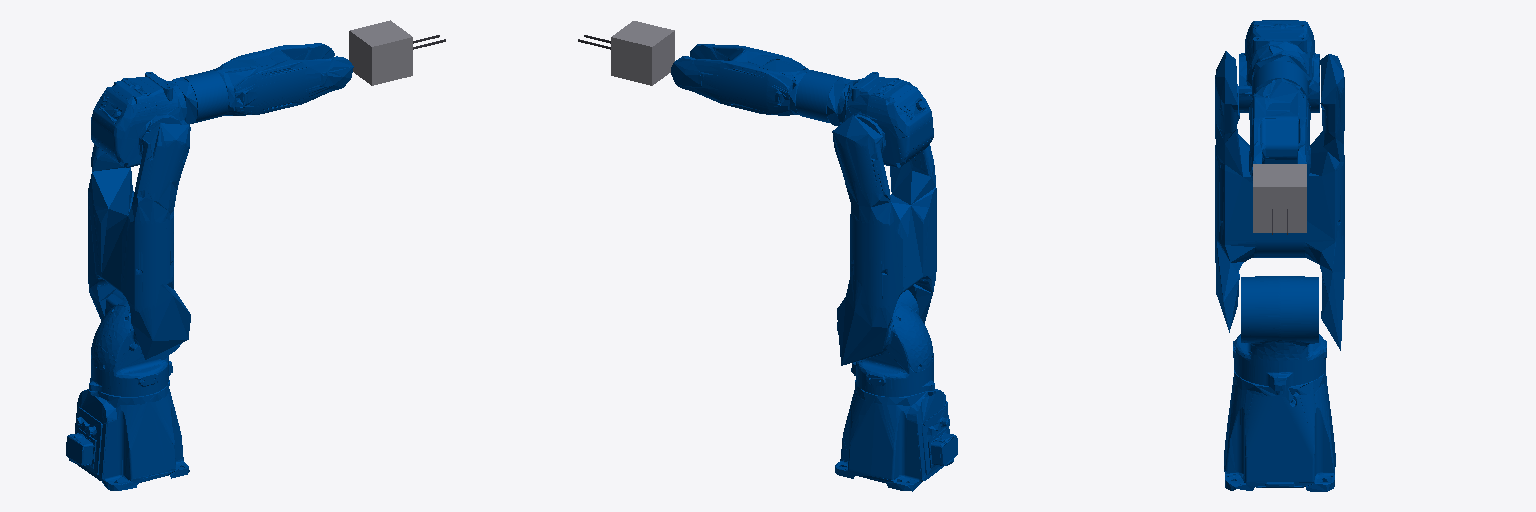
robot.urdf — motoman_gp7:
<?xml version="1.0" ?>
<robot name="motoman_gp7">
  <link name="base_link">
    <inertial>
      <origin rpy="0 0 0" xyz="0 0 0"/>
      <mass value="3"/>
      <inertia ixx="0.02" ixy="0" ixz="0" iyy="0.02" iyz="0" izz="0.02"/>
    </inertial>
    <visual>
      <geometry>
        <mesh filename="meshes/visual/base_link.stl"/>
      </geometry>
      <material name="yaskawa_blue">
        <color rgba="0.0 0.32 0.6 1.0"/>
      </material>
    </visual>
    <collision>
      <geometry>
        <mesh filename="meshes/collision/base_link.stl"/>
      </geometry>
    </collision>
  </link>
  <link name="link_1_s">
    <inertial>
      <origin rpy="0 0 0" xyz="0 0 0"/>
      <mass value="3"/>
      <inertia ixx="0.02" ixy="0" ixz="0" iyy="0.02" iyz="0" izz="0.02"/>
    </inertial>
    <visual>
      <geometry>
        <mesh filename="meshes/visual/link_1_s.stl"/>
      </geometry>
      <material name="yaskawa_blue">
        <color rgba="0.0 0.32 0.6 1.0"/>
      </material>
    </visual>
    <collision>
      <geometry>
        <mesh filename="meshes/collision/link_1_s.stl"/>
      </geometry>
    </collision>
  </link>
  <link name="link_2_l">
    <inertial>
      <origin rpy="0 0 0" xyz="0 0 0"/>
      <mass value="3"/>
      <inertia ixx="0.02" ixy="0" ixz="0" iyy="0.02" iyz="0" izz="0.02"/>
    </inertial>
    <visual>
      <geometry>
        <mesh filename="meshes/visual/link_2_l.stl"/>
      </geometry>
      <material name="yaskawa_blue">
        <color rgba="0.0 0.32 0.6 1.0"/>
      </material>
    </visual>
    <collision>
      <geometry>
        <mesh filename="meshes/collision/link_2_l.stl"/>
      </geometry>
    </collision>
  </link>
  <link name="link_3_u">
    <inertial>
      <origin rpy="0 0 0" xyz="0 0 0"/>
      <mass value="3"/>
      <inertia ixx="0.02" ixy="0" ixz="0" iyy="0.02" iyz="0" izz="0.02"/>
    </inertial>
    <visual>
      <geometry>
        <mesh filename="meshes/visual/link_3_u.stl"/>
      </geometry>
      <material name="yaskawa_blue">
        <color rgba="0.0 0.32 0.6 1.0"/>
      </material>
    </visual>
    <collision>
      <geometry>
        <mesh filename="meshes/collision/link_3_u.stl"/>
      </geometry>
    </collision>
  </link>
  <link name="link_4_r">
    <inertial>
      <origin rpy="0 0 0" xyz="0 0 0"/>
      <mass value="3"/>
      <inertia ixx="0.02" ixy="0" ixz="0" iyy="0.02" iyz="0" izz="0.02"/>
    </inertial>
    <visual>
      <geometry>
        <mesh filename="meshes/visual/link_4_r.stl"/>
      </geometry>
      <material name="yaskawa_blue">
        <color rgba="0.0 0.32 0.6 1.0"/>
      </material>
    </visual>
    <collision>
      <geometry>
        <mesh filename="meshes/collision/link_4_r.stl"/>
      </geometry>
    </collision>
  </link>
  <link name="link_5_b">
    <inertial>
      <origin rpy="0 0 0" xyz="0 0 0"/>
      <mass value="3"/>
      <inertia ixx="0.02" ixy="0" ixz="0" iyy="0.02" iyz="0" izz="0.02"/>
    </inertial>
    <visual>
      <geometry>
        <mesh filename="meshes/visual/link_5_b.stl"/>
      </geometry>
      <material name="yaskawa_blue">
        <color rgba="0.0 0.32 0.6 1.0"/>
      </material>
    </visual>
    <collision>
      <geometry>
        <mesh filename="meshes/collision/link_5_b.stl"/>
      </geometry>
    </collision>
  </link>
  <link name="link_6_t">
    <inertial>
      <origin rpy="0 0 0" xyz="0 0 0"/>
      <mass value="3"/>
      <inertia ixx="0.02" ixy="0" ixz="0" iyy="0.02" iyz="0" izz="0.02"/>
    </inertial>
    <visual>
      <geometry>
        <mesh filename="meshes/visual/link_6_t.stl"/>
      </geometry>
      <material name="yaskawa_blue">
        <color rgba="0.0 0.32 0.6 1.0"/>
      </material>
    </visual>
    <collision>
      <geometry>
        <mesh filename="meshes/collision/link_6_t.stl"/>
      </geometry>
    </collision>
  </link>
  <link name="tool0"/>
  <joint name="joint_1_s" type="revolute">
    <parent link="base_link"/>
    <child link="link_1_s"/>
    <origin rpy="0.0 0.0 0.0" xyz="0.0 0.0 0.33"/>
    <axis xyz="0 0 1"/>
    <limit effort="212.66" lower="-2.9670597283903604" upper="2.9670597283903604" velocity="6.544984694978735"/>
  </joint>
  <joint name="joint_2_l" type="revolute">
    <parent link="link_1_s"/>
    <child link="link_2_l"/>
    <origin rpy="0.0 0.0 0.0" xyz="0.04 0.0 0.0"/>
    <axis xyz="0 1 0"/>
    <limit effort="205.80" lower="-1.1344640137963142" upper="2.530727415391778" velocity="5.497787143782138"/>
  </joint>
  <joint name="joint_3_u" type="revolute">
    <parent link="link_2_l"/>
    <child link="link_3_u"/>
    <origin rpy="0.0 0.0 0.0" xyz="0.0 0.0 0.445"/>
    <axis xyz="0 -1 0"/>
    <limit effort="106.82" lower="-1.2217304763960306" upper="3.3161255787892263" velocity="7.155849933176751"/>
  </joint>
  <joint name="joint_4_r" type="revolute">
    <parent link="link_3_u"/>
    <child link="link_4_r"/>
    <origin rpy="0.0 0.0 0.0" xyz="0.44 0.0 0.04"/>
    <axis xyz="-1 0 0"/>
    <limit effort="55.86" lower="-3.3161255787892263" upper="3.3161255787892263" velocity="9.599310885968812"/>
  </joint>
  <joint name="joint_5_b" type="revolute">
    <parent link="link_4_r"/>
    <child link="link_5_b"/>
    <origin rpy="0.0 0.0 0.0" xyz="0.0 0.0 0.0"/>
    <axis xyz="0 -1 0"/>
    <limit effort="32.68" lower="-2.356194490192345" upper="2.356194490192345" velocity="9.599310885968812"/>
  </joint>
  <joint name="joint_6_t" type="revolute">
    <parent link="link_5_b"/>
    <child link="link_6_t"/>
    <origin rpy="0.0 0.0 0.0" xyz="0.0 0.0 0.0"/>
    <axis xyz="-1 0 0"/>
    <limit effort="22.54" lower="-6.283185307179586" upper="6.283185307179586" velocity="17.453292519943297"/>
  </joint>
  <joint name="joint_6_t-tool0" type="fixed">
    <origin rpy="0 0 0" xyz="0.08 0 0 "/>
    <parent link="link_6_t"/>
    <child link="tool0"/>
  </joint>
  <link name="base"/>
  <joint name="base_link-base" type="fixed">
    <origin rpy="0.0 0.0 0.0" xyz="0.0 0.0 0.103"/>
    <axis xyz="0 0 1"/>
    <parent link="base_link"/>
    <child link="base"/>
  </joint>
  <!-- Simple two-finger parallel gripper (fixed open, no jaw actuation).
       Gripper frame: z = tool axis (out of the flange), fingers close
       across y. TCP = center between the fingertips at z = 0.200 from the
       flange, where the part COG is grasped. gripper.STL kept in meshes/. -->
  <link name="gripper">
    <inertial>
      <origin rpy="0 0 0" xyz="0 0 0.08"/>
      <mass value="1.0"/>
      <inertia ixx="0.003" ixy="0" ixz="0" iyy="0.003" iyz="0" izz="0.002"/>
    </inertial>
    <visual name="palm">
      <origin rpy="0 0 0" xyz="0 0 0.050"/>
      <geometry><box size="0.090 0.095 0.100"/></geometry>
      <material name="palm_grey"><color rgba="0.55 0.55 0.58 1"/></material>
    </visual>
    <visual name="finger_left">
      <origin rpy="0 0 0" xyz="0 0.013 0.150"/>
      <geometry><box size="0.005 0.002 0.100"/></geometry>
      <material name="finger_dark"><color rgba="0.25 0.25 0.28 1"/></material>
    </visual>
    <visual name="finger_right">
      <origin rpy="0 0 0" xyz="0 -0.013 0.150"/>
      <geometry><box size="0.005 0.002 0.100"/></geometry>
      <material name="finger_dark2"><color rgba="0.25 0.25 0.28 1"/></material>
    </visual>
    <collision name="palm_col">
      <origin rpy="0 0 0" xyz="0 0 0.050"/>
      <geometry><box size="0.090 0.095 0.100"/></geometry>
    </collision>
    <collision name="finger_left_col">
      <origin rpy="0 0 0" xyz="0 0.013 0.150"/>
      <geometry><box size="0.005 0.002 0.100"/></geometry>
    </collision>
    <collision name="finger_right_col">
      <origin rpy="0 0 0" xyz="0 -0.013 0.150"/>
      <geometry><box size="0.005 0.002 0.100"/></geometry>
    </collision>
  </link>
  <joint name="tool0-gripper" type="fixed">
    <parent link="tool0"/>
    <child link="gripper"/>
    <origin rpy="0 1.57079633 0" xyz="0 0 0"/>
  </joint>
  <link name="tcp"/>
  <joint name="gripper-tcp" type="fixed">
    <parent link="gripper"/>
    <child link="tcp"/>
    <origin rpy="0 0 0" xyz="0 0 0.200"/>
  </joint>
</robot>

--- Render facts (derived) ---
The picture shows the robot from 3 angles, left to right: view 1: azimuth 30°, elevation 25°; view 2: azimuth 150°, elevation 25°; view 3: azimuth 270°, elevation 25°; orthographic projection.
Model motoman_gp7 with 11 links and 10 joints (6 revolute, 4 fixed), rooted at base_link, posed every joint at zero.
Visible links, largest first — view 1: link_2_l, base_link, link_4_r, link_3_u, link_1_s, gripper; view 2: link_2_l, base_link, link_4_r, link_3_u, link_1_s, gripper; view 3: link_2_l, base_link, link_1_s, link_4_r, link_3_u, gripper.
Link boxes in pixels (left/top/right/bottom): link_2_l: left=88, top=123, right=190, bottom=359; base_link: left=66, top=378, right=189, bottom=490; link_4_r: left=172, top=43, right=353, bottom=124; link_3_u: left=91, top=72, right=190, bottom=167; link_1_s: left=89, top=289, right=181, bottom=396; gripper: left=349, top=20, right=445, bottom=85; link_2_l: left=832, top=115, right=936, bottom=365; base_link: left=835, top=380, right=957, bottom=491; link_4_r: left=671, top=44, right=854, bottom=125; link_3_u: left=837, top=72, right=933, bottom=167; link_1_s: left=837, top=290, right=934, bottom=396; gripper: left=578, top=21, right=674, bottom=85; link_2_l: left=1215, top=51, right=1344, bottom=350; base_link: left=1224, top=370, right=1335, bottom=491; link_1_s: left=1233, top=276, right=1326, bottom=394; link_4_r: left=1249, top=55, right=1310, bottom=185; link_3_u: left=1239, top=20, right=1319, bottom=112; gripper: left=1253, top=164, right=1306, bottom=234.
Bounding box of the posed robot: 0.898 × 0.2307 × 0.8789 m (x, y, z).
5 mesh visuals loaded from 7 distinct referenced files (5 binary STL); not drawn: 2 (reference not matched to a file when rendering).
